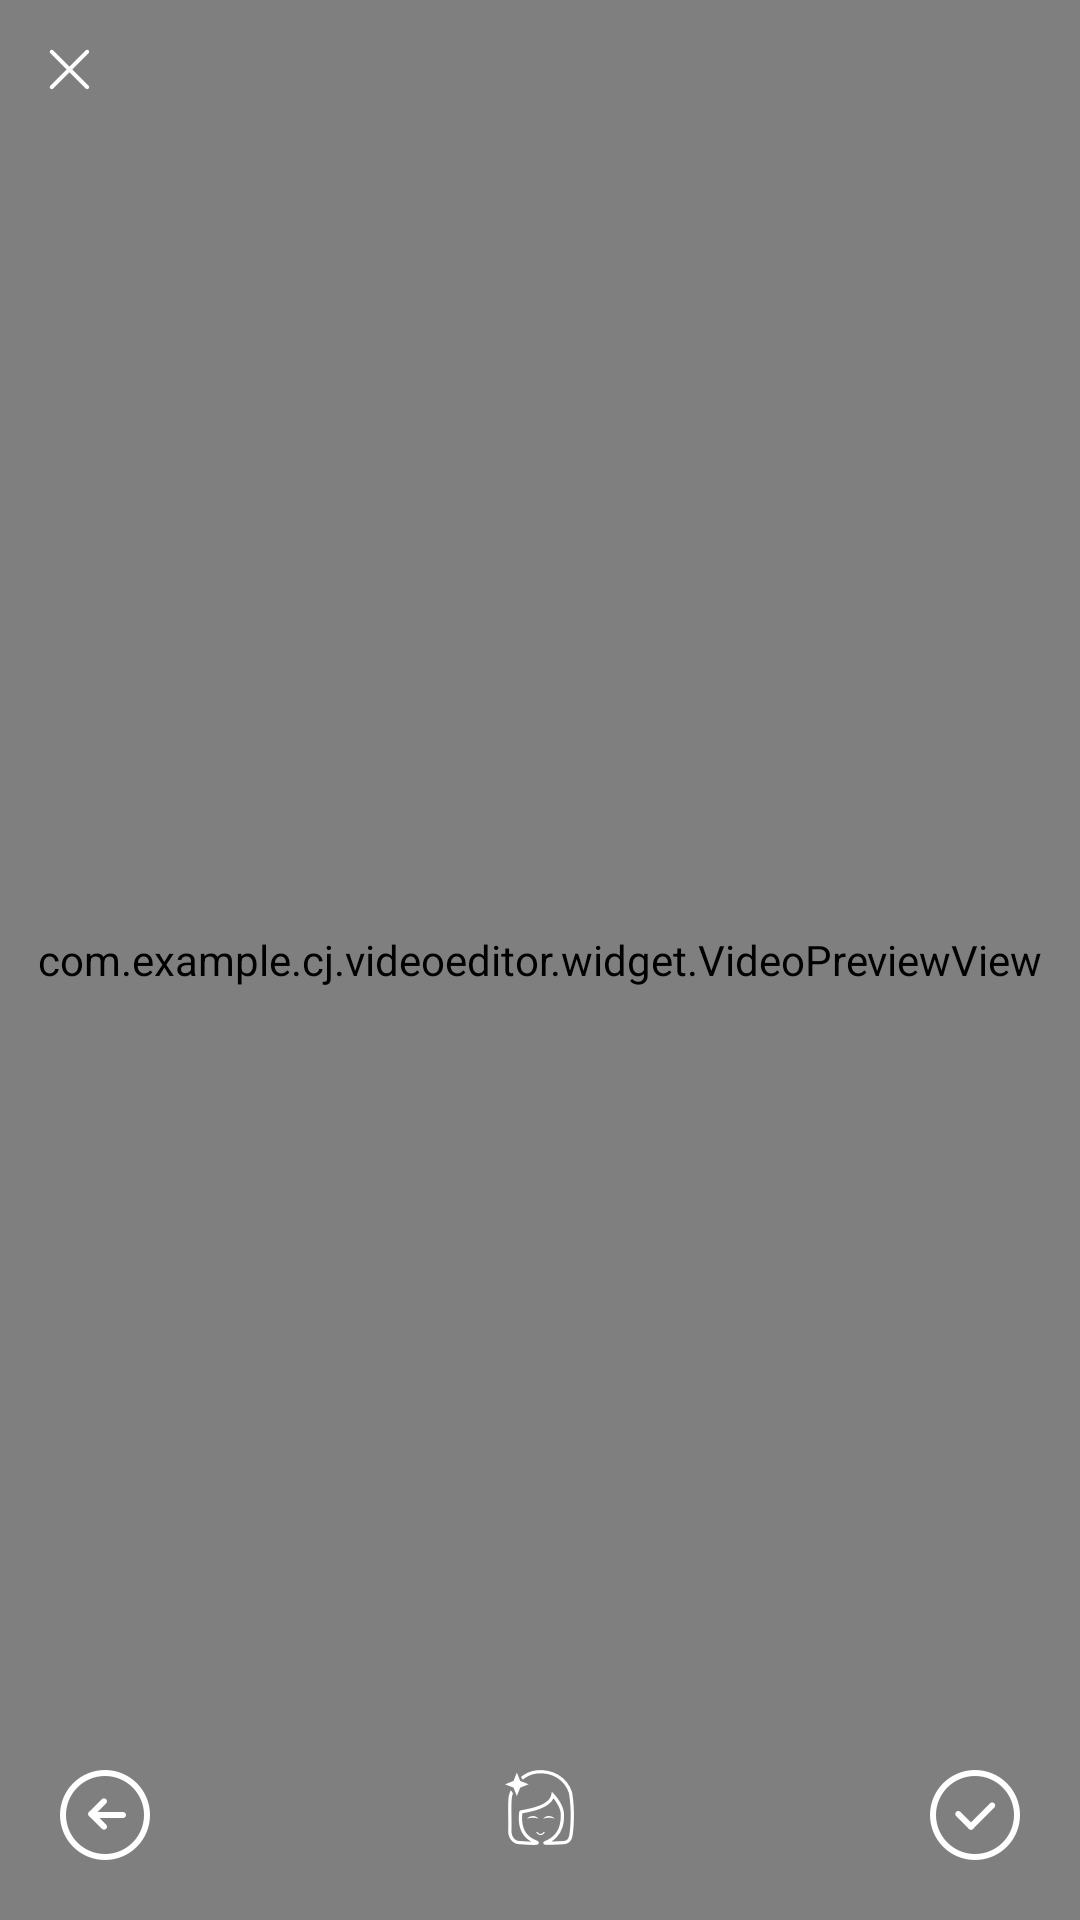

Locate icon controls on the screen. Image size 1080px x 1920px, boxes as (x1, y1, x2, y2).
beauty: (505, 1770, 574, 1845)
editor confirm: (930, 1770, 1020, 1860)
editor record back: (60, 1770, 150, 1860)
editor record close: (50, 50, 89, 89)
